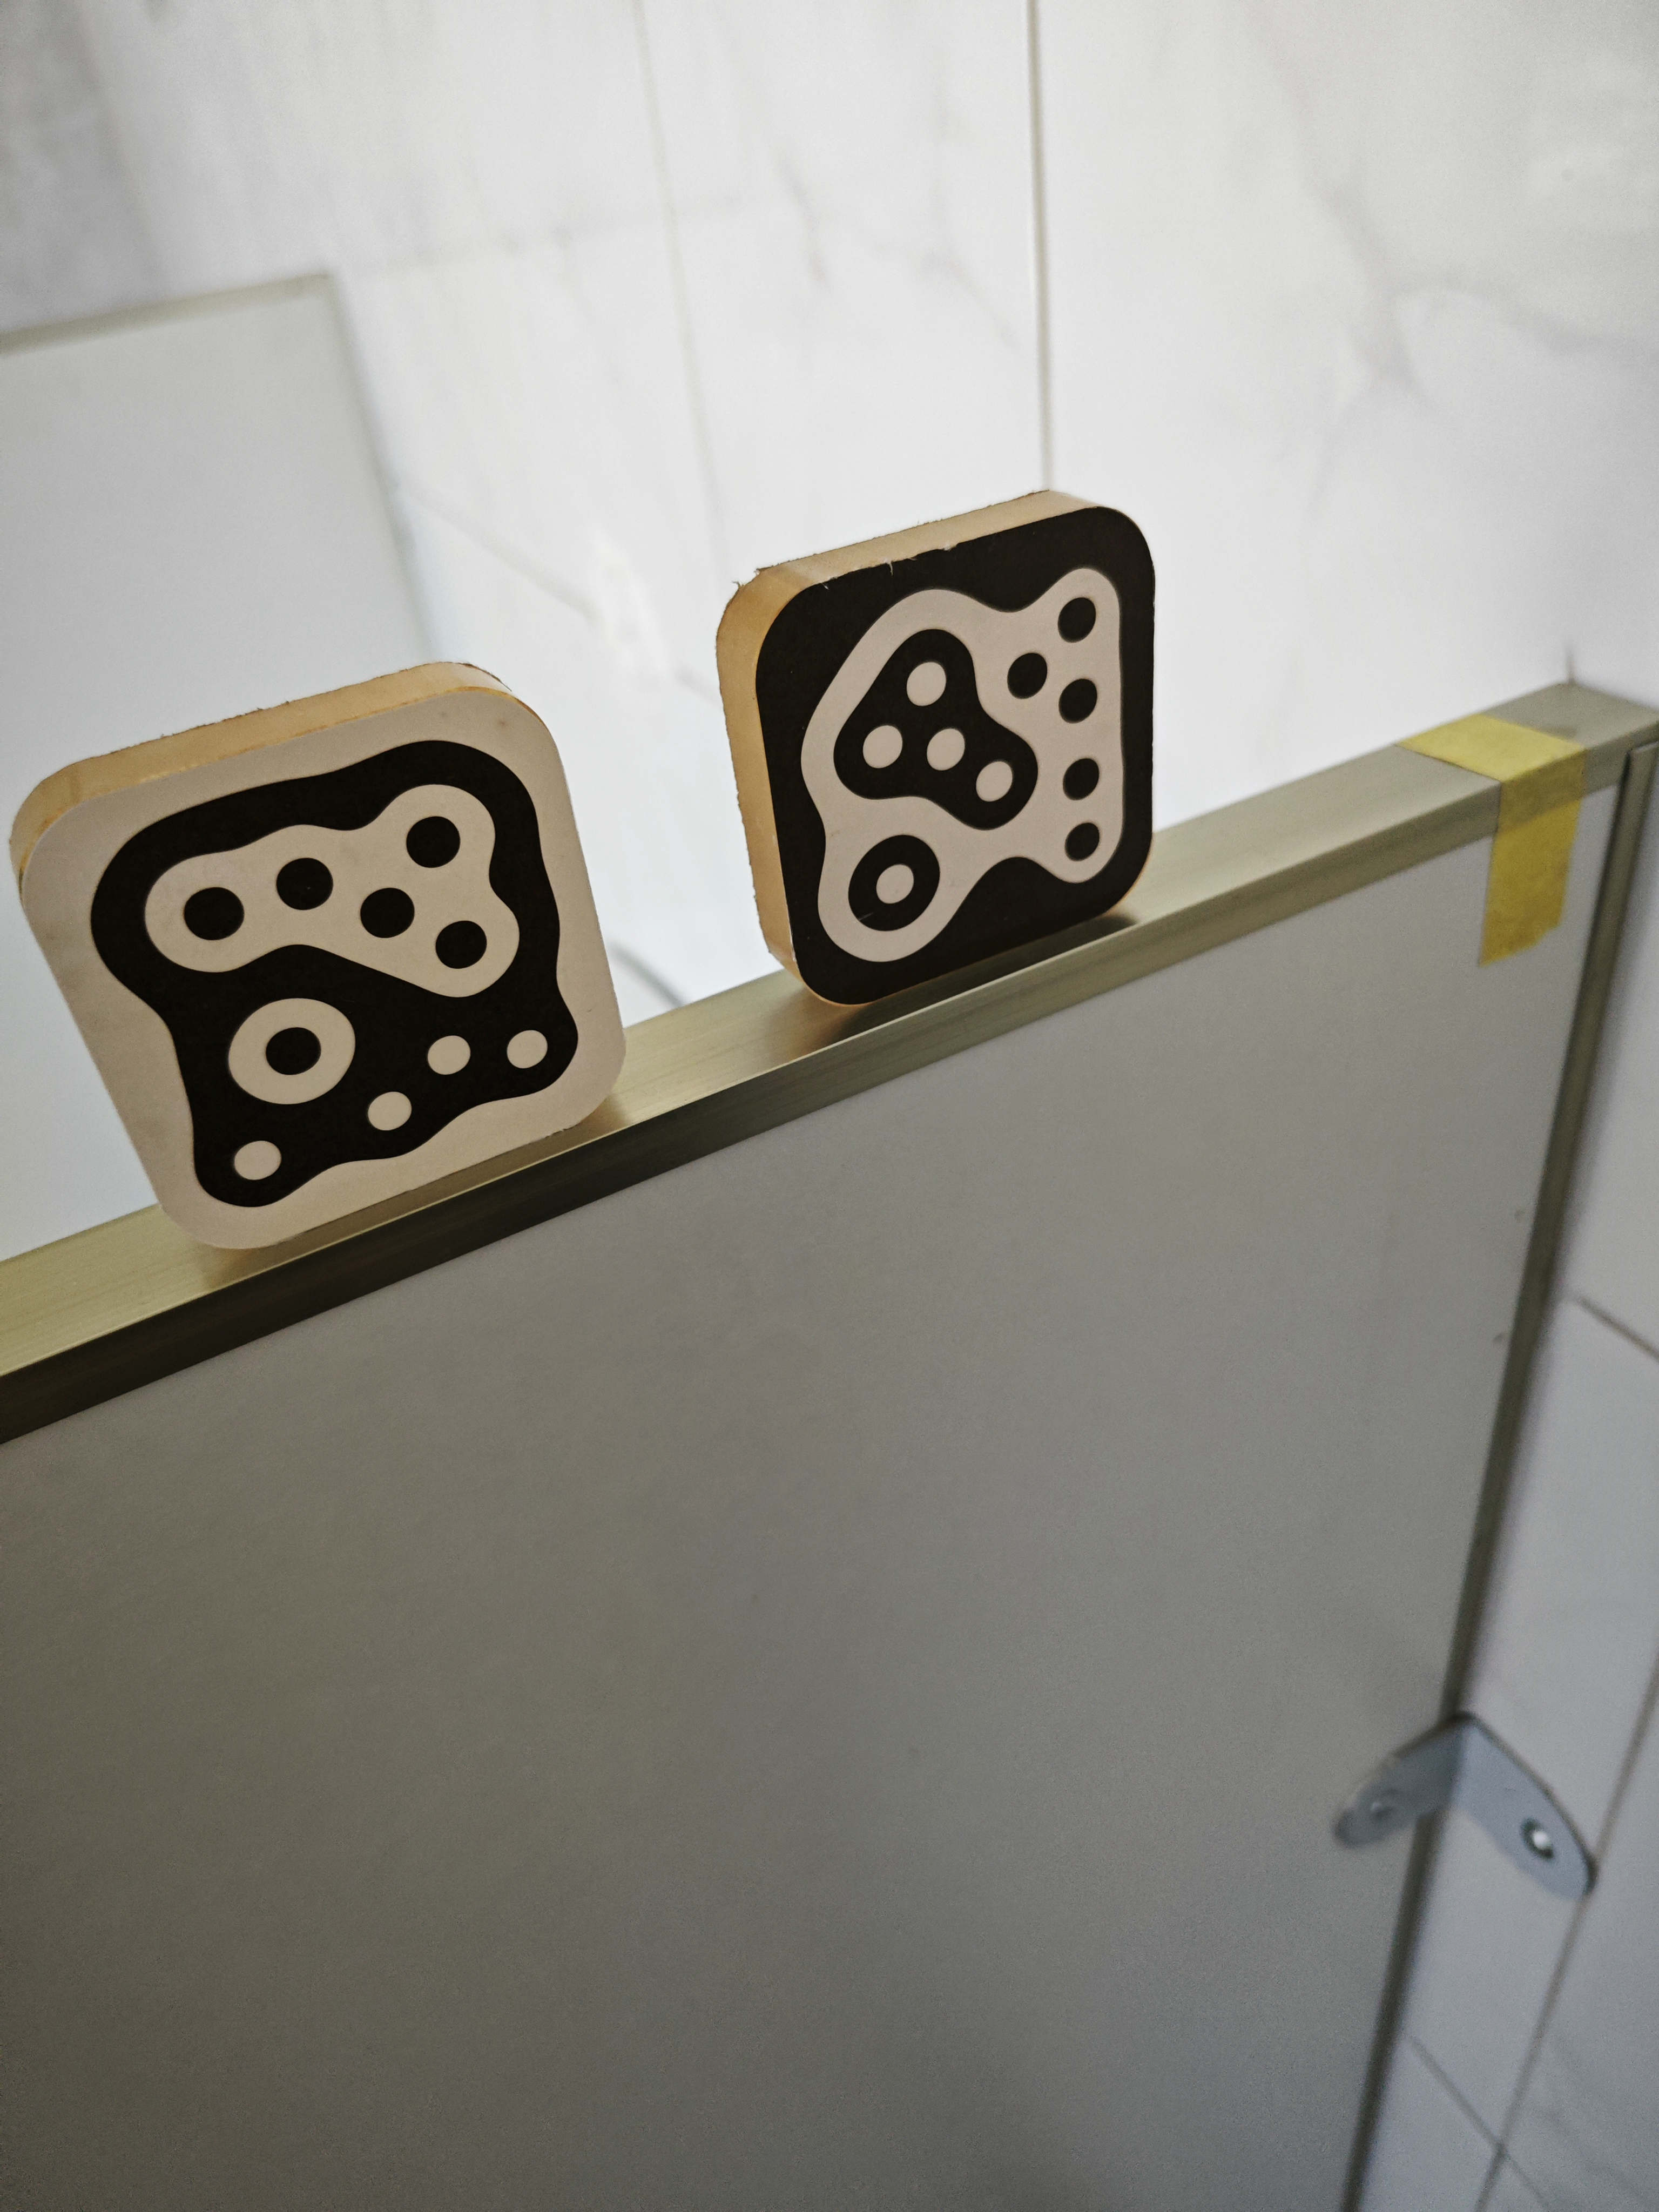mark1: (54, 725, 594, 1212)
mark2: (786, 564, 1138, 968)
